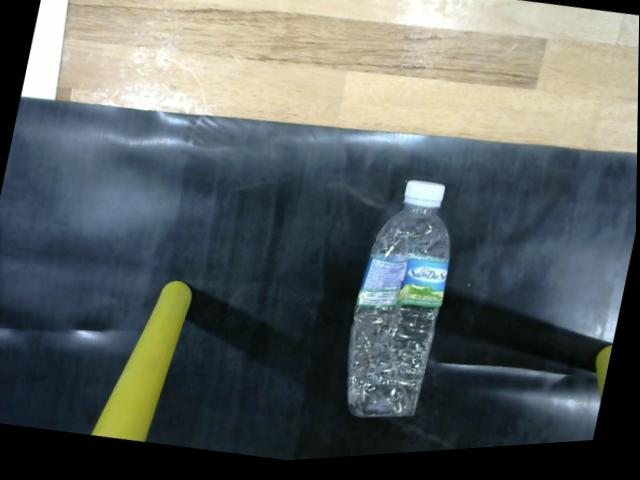bottle: (341, 186, 462, 427)
